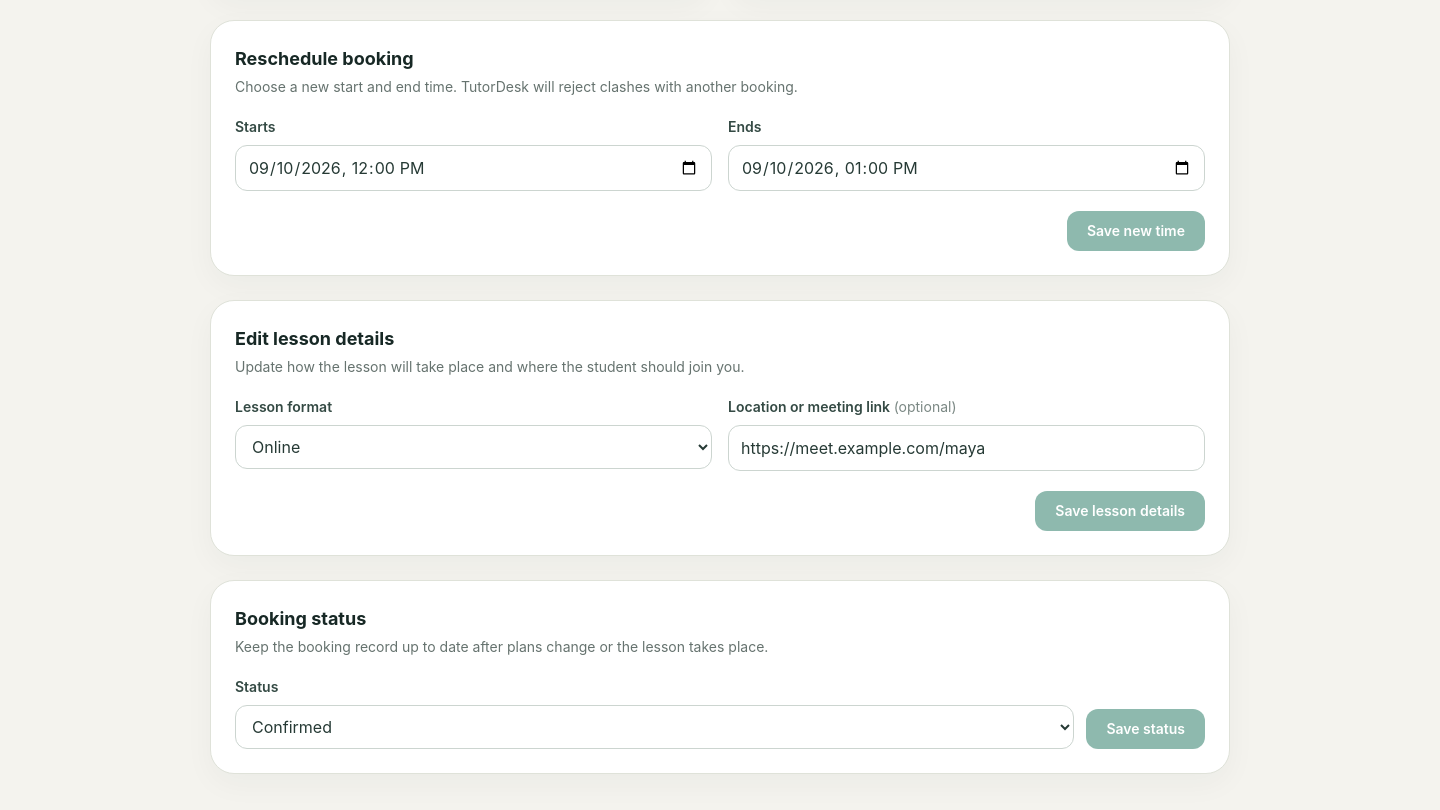
saves a new booking status
(page scrolled)
Select "Completed" in the dropdown labelled "Status": (655, 726) [235,704,1074,748]
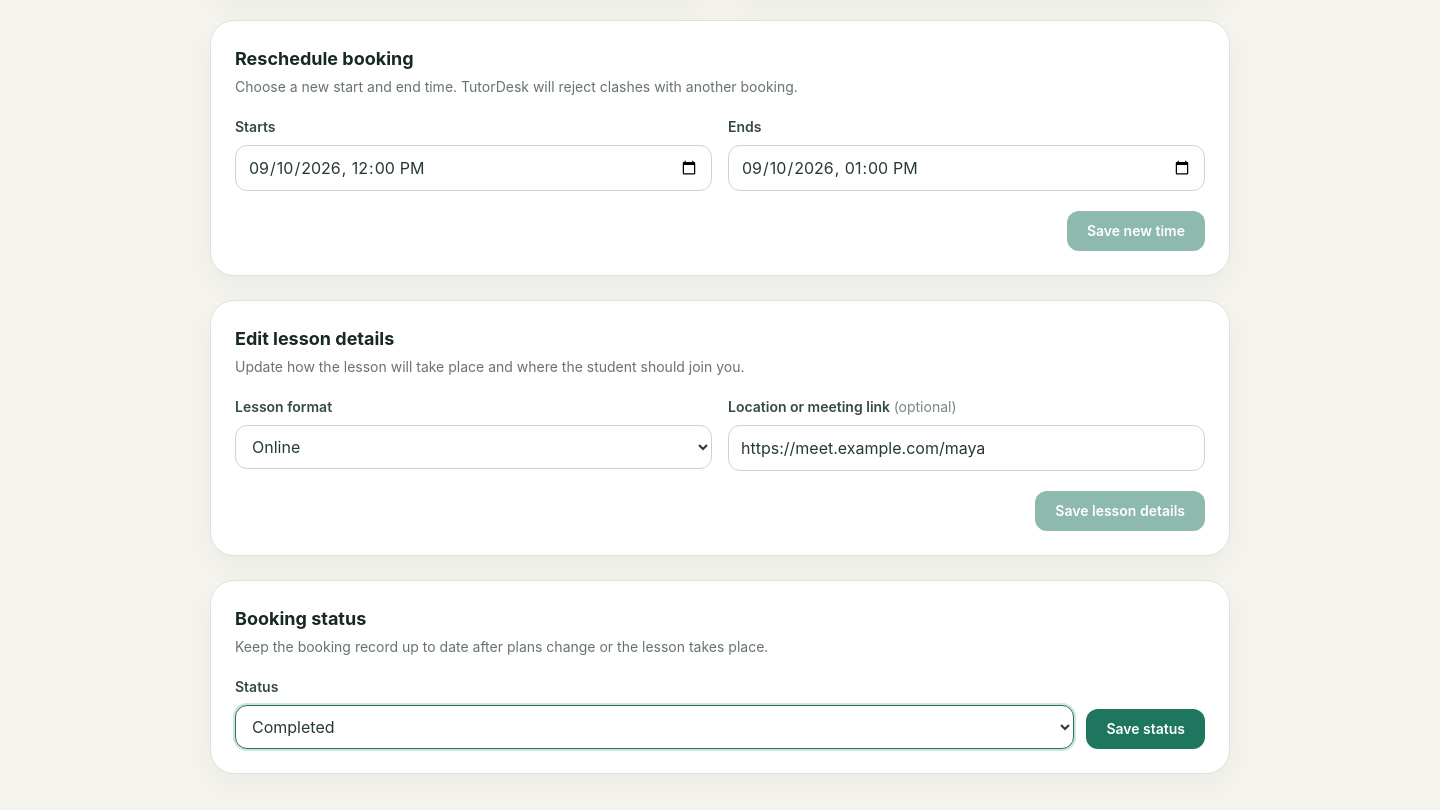
Click the button "Save status": (1146, 728) [1086,708,1205,748]
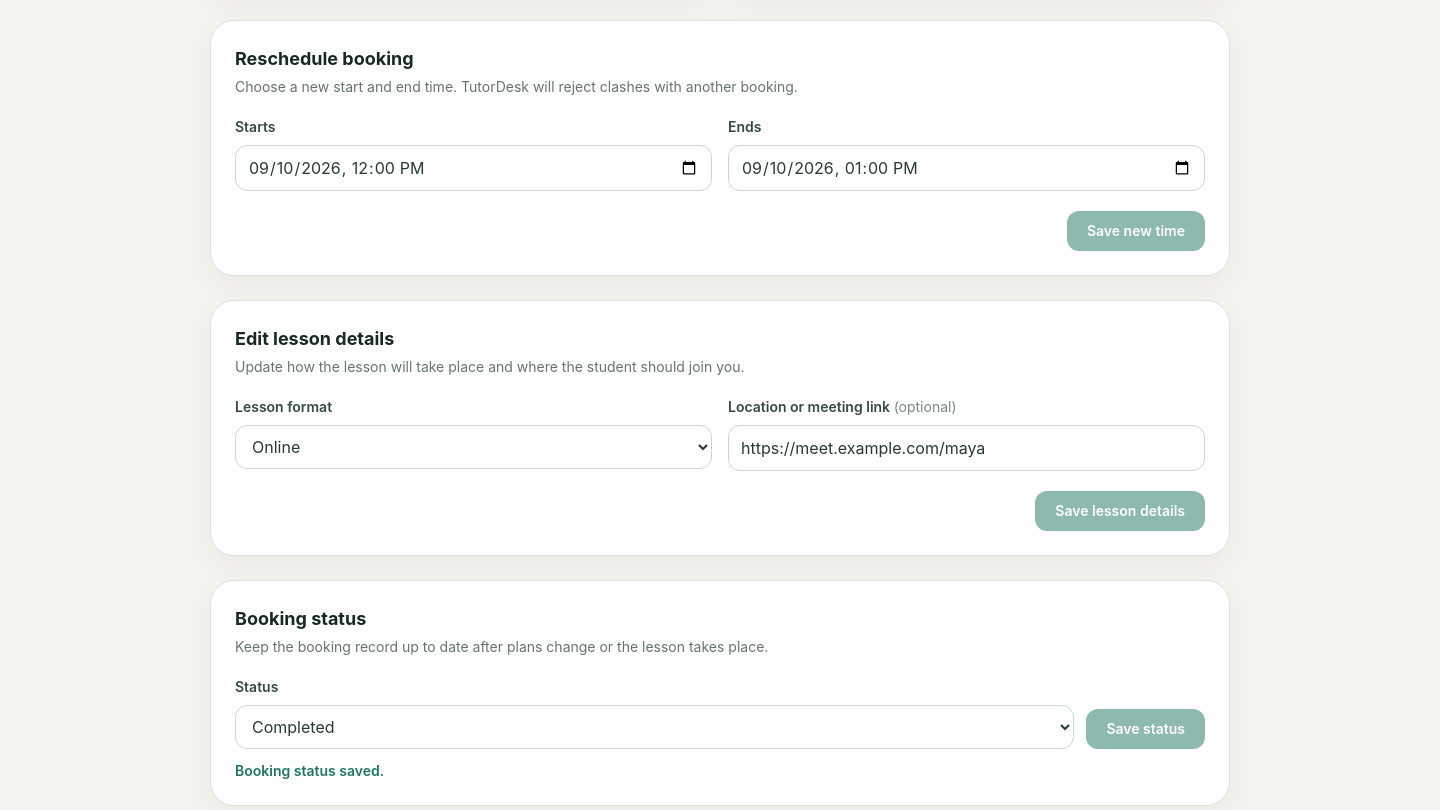
Expected: the message shows "Booking status saved", [235,762,384,778]
Expected: the button "Save status" is disabled, [1086,708,1205,748]
